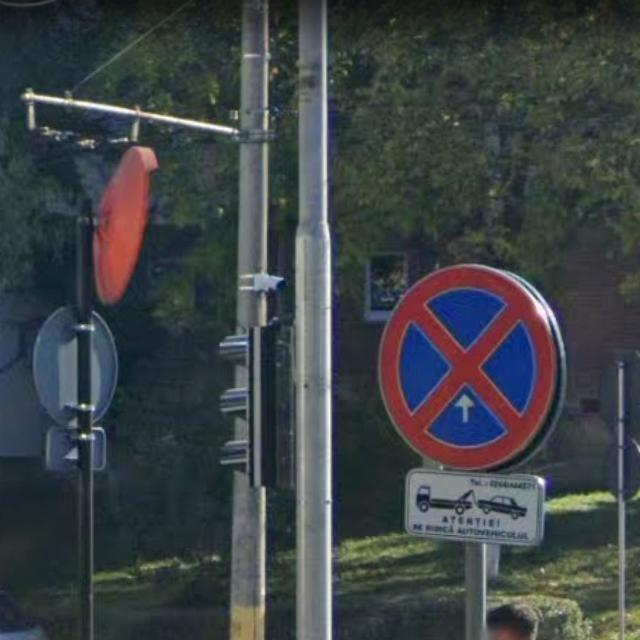forb_waiting: (377, 264, 552, 469)
